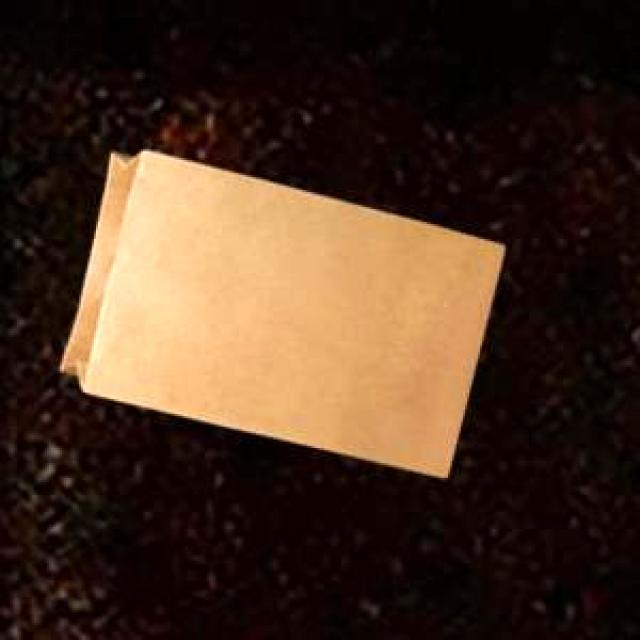Paper_Bag: (59, 148, 502, 474)
